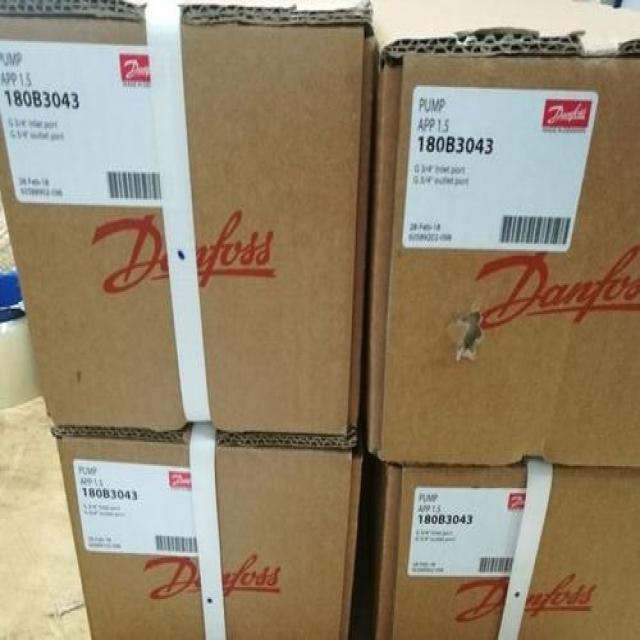box: (0, 1, 375, 435), (357, 0, 639, 468), (50, 424, 363, 638), (348, 434, 639, 638)
